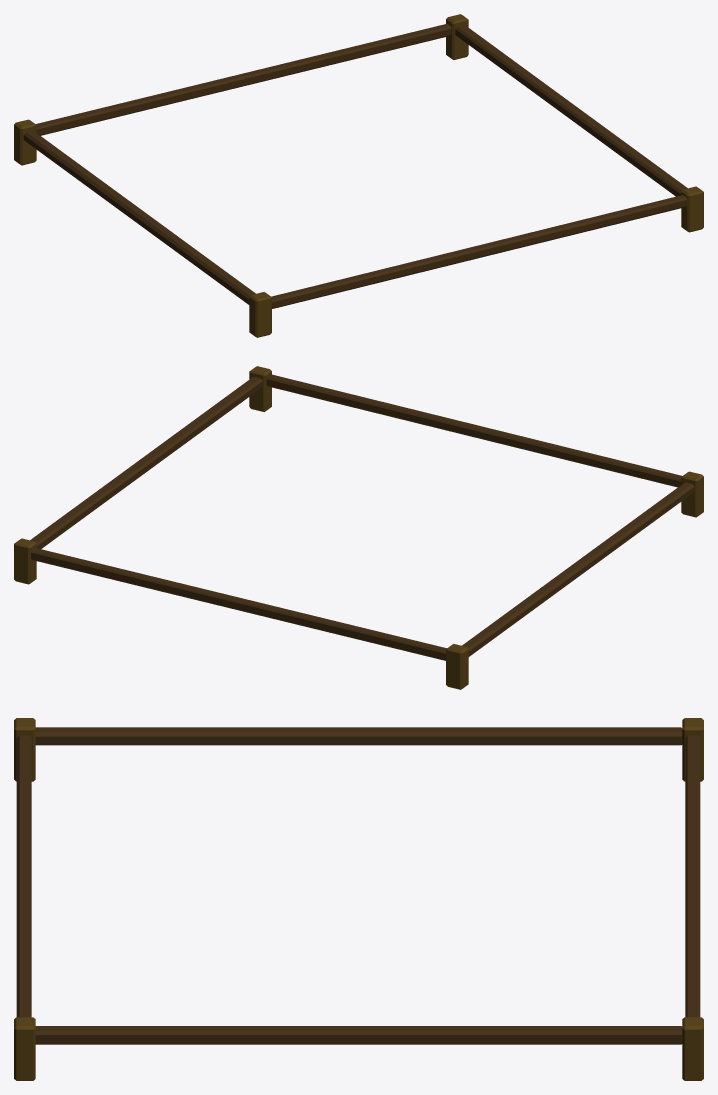
The model's file is house_v2_BuildingFrame.fbx.
3 renders of one model, top to bottom at view 1: azimuth 30°, elevation 25°; view 2: azimuth 150°, elevation 25°; view 3: azimuth 270°, elevation 25°, orthographic. The views are drawn at different scales.
Visible parts, largest first — view 1: Cube.001; view 2: Cube.001; view 3: Cube.001.
Part boxes in pixels (x1,y1,x2,y2): Cube.001: (14,14,703,337); Cube.001: (14,366,703,689); Cube.001: (14,718,703,1080).
Size of the model in its own units: 2351 by 193 by 2207.
